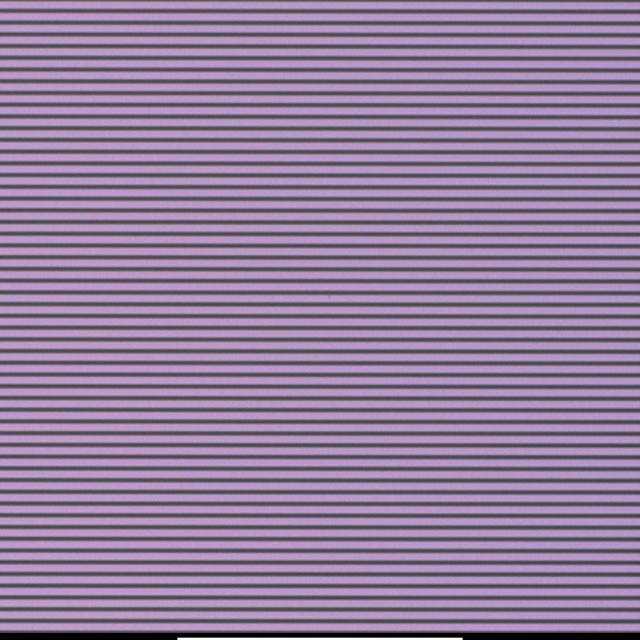nonvisual: (326, 291, 334, 300)
